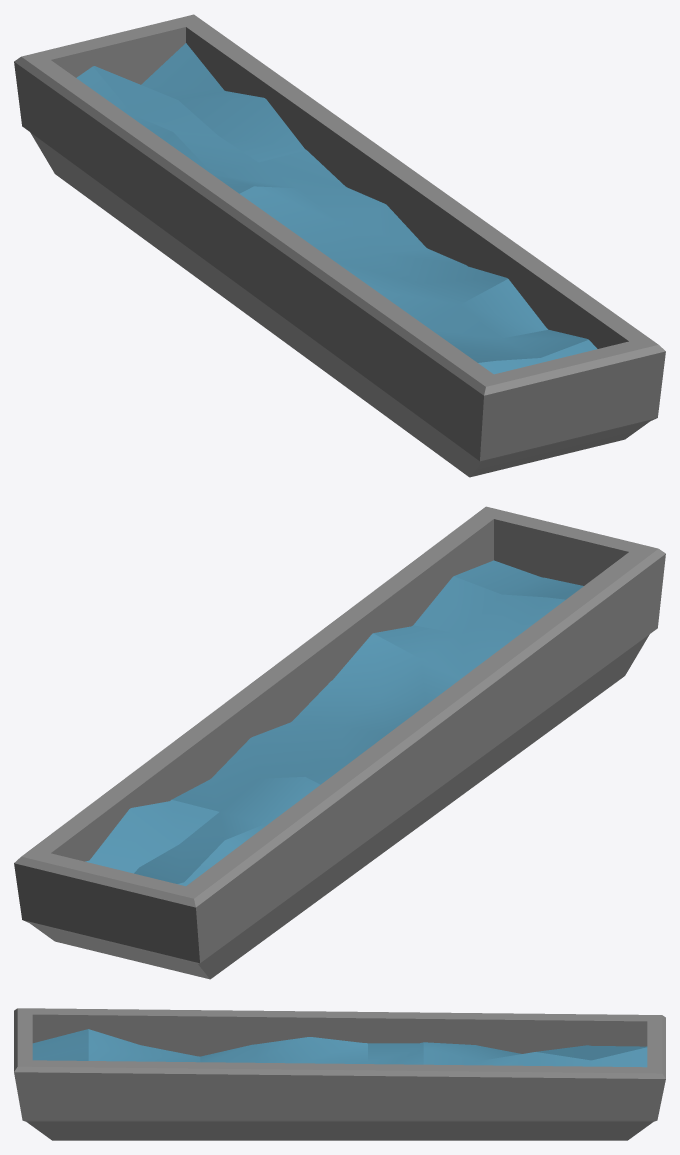
File: waterdish_a001.glb
3 views of the same model, one above another, from view 1: azimuth 30°, elevation 25°; view 2: azimuth 150°, elevation 25°; view 3: azimuth 270°, elevation 25° (orthographic). The views are drawn at different scales.
Visible parts, largest first — view 1: waterdish_a001; view 2: waterdish_a001; view 3: waterdish_a001.
Boxes of the visible parts, x1,y1,x2,y2 form: waterdish_a001: [14, 14, 665, 477]; waterdish_a001: [14, 506, 665, 979]; waterdish_a001: [14, 1008, 665, 1140].
Size of the model in its own units: 0.3902 by 0.2277 by 1.75.
1 material, 1 textured.
